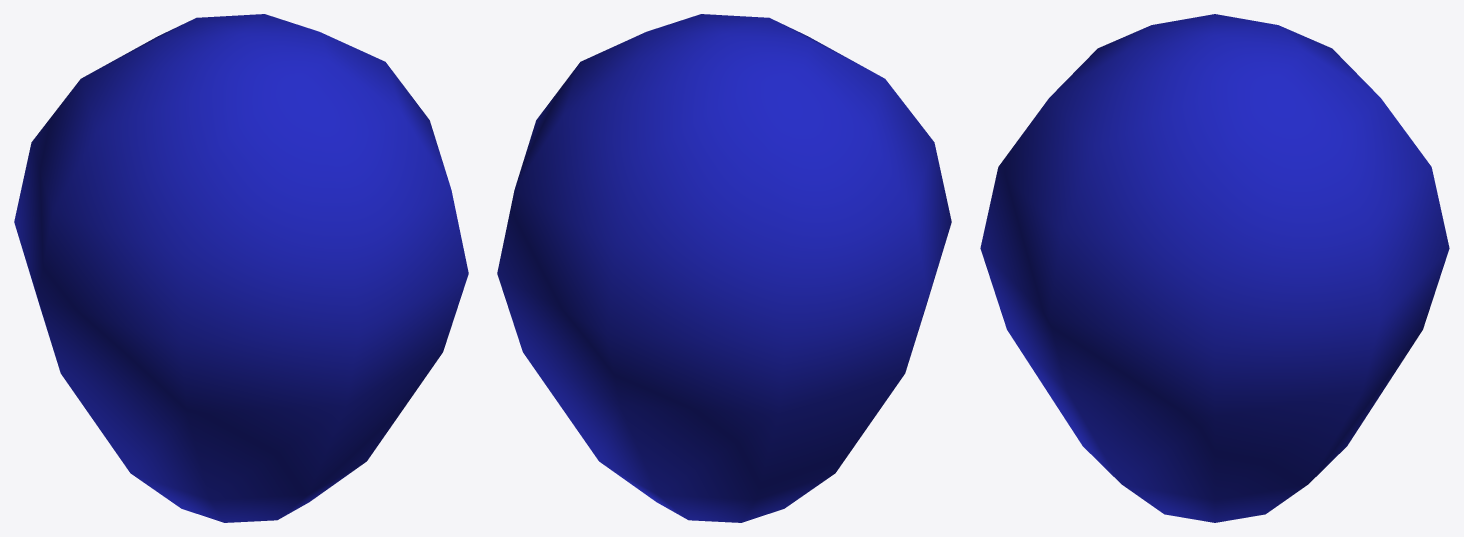
Rendered from SM_B_Balloon.fbx.
3 renders of one model, left to right at view 1: azimuth 30°, elevation 25°; view 2: azimuth 150°, elevation 25°; view 3: azimuth 270°, elevation 25°, orthographic.
Visible parts, largest first — view 1: SM_B_Ballon; view 2: SM_B_Ballon; view 3: SM_B_Ballon.
Part boxes in pixels (x1,y1,x2,y2): SM_B_Ballon: (14,14,468,522); SM_B_Ballon: (497,14,951,522); SM_B_Ballon: (980,14,1449,522).
Bounding box in the file's own units: 27.96 × 30.36 × 27.96.
